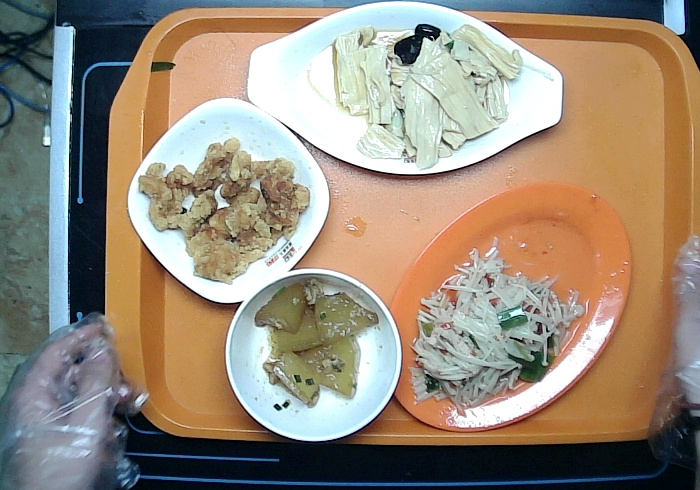NLDX-Bai_Se_Xiao_Fang_Die: (125, 96, 333, 306)
NLDX-Fan_Wan: (223, 266, 403, 444)
NLDX-Ju_Se_Pan: (388, 179, 633, 435)
NLDX-Yu_Pan: (245, 1, 564, 177)
